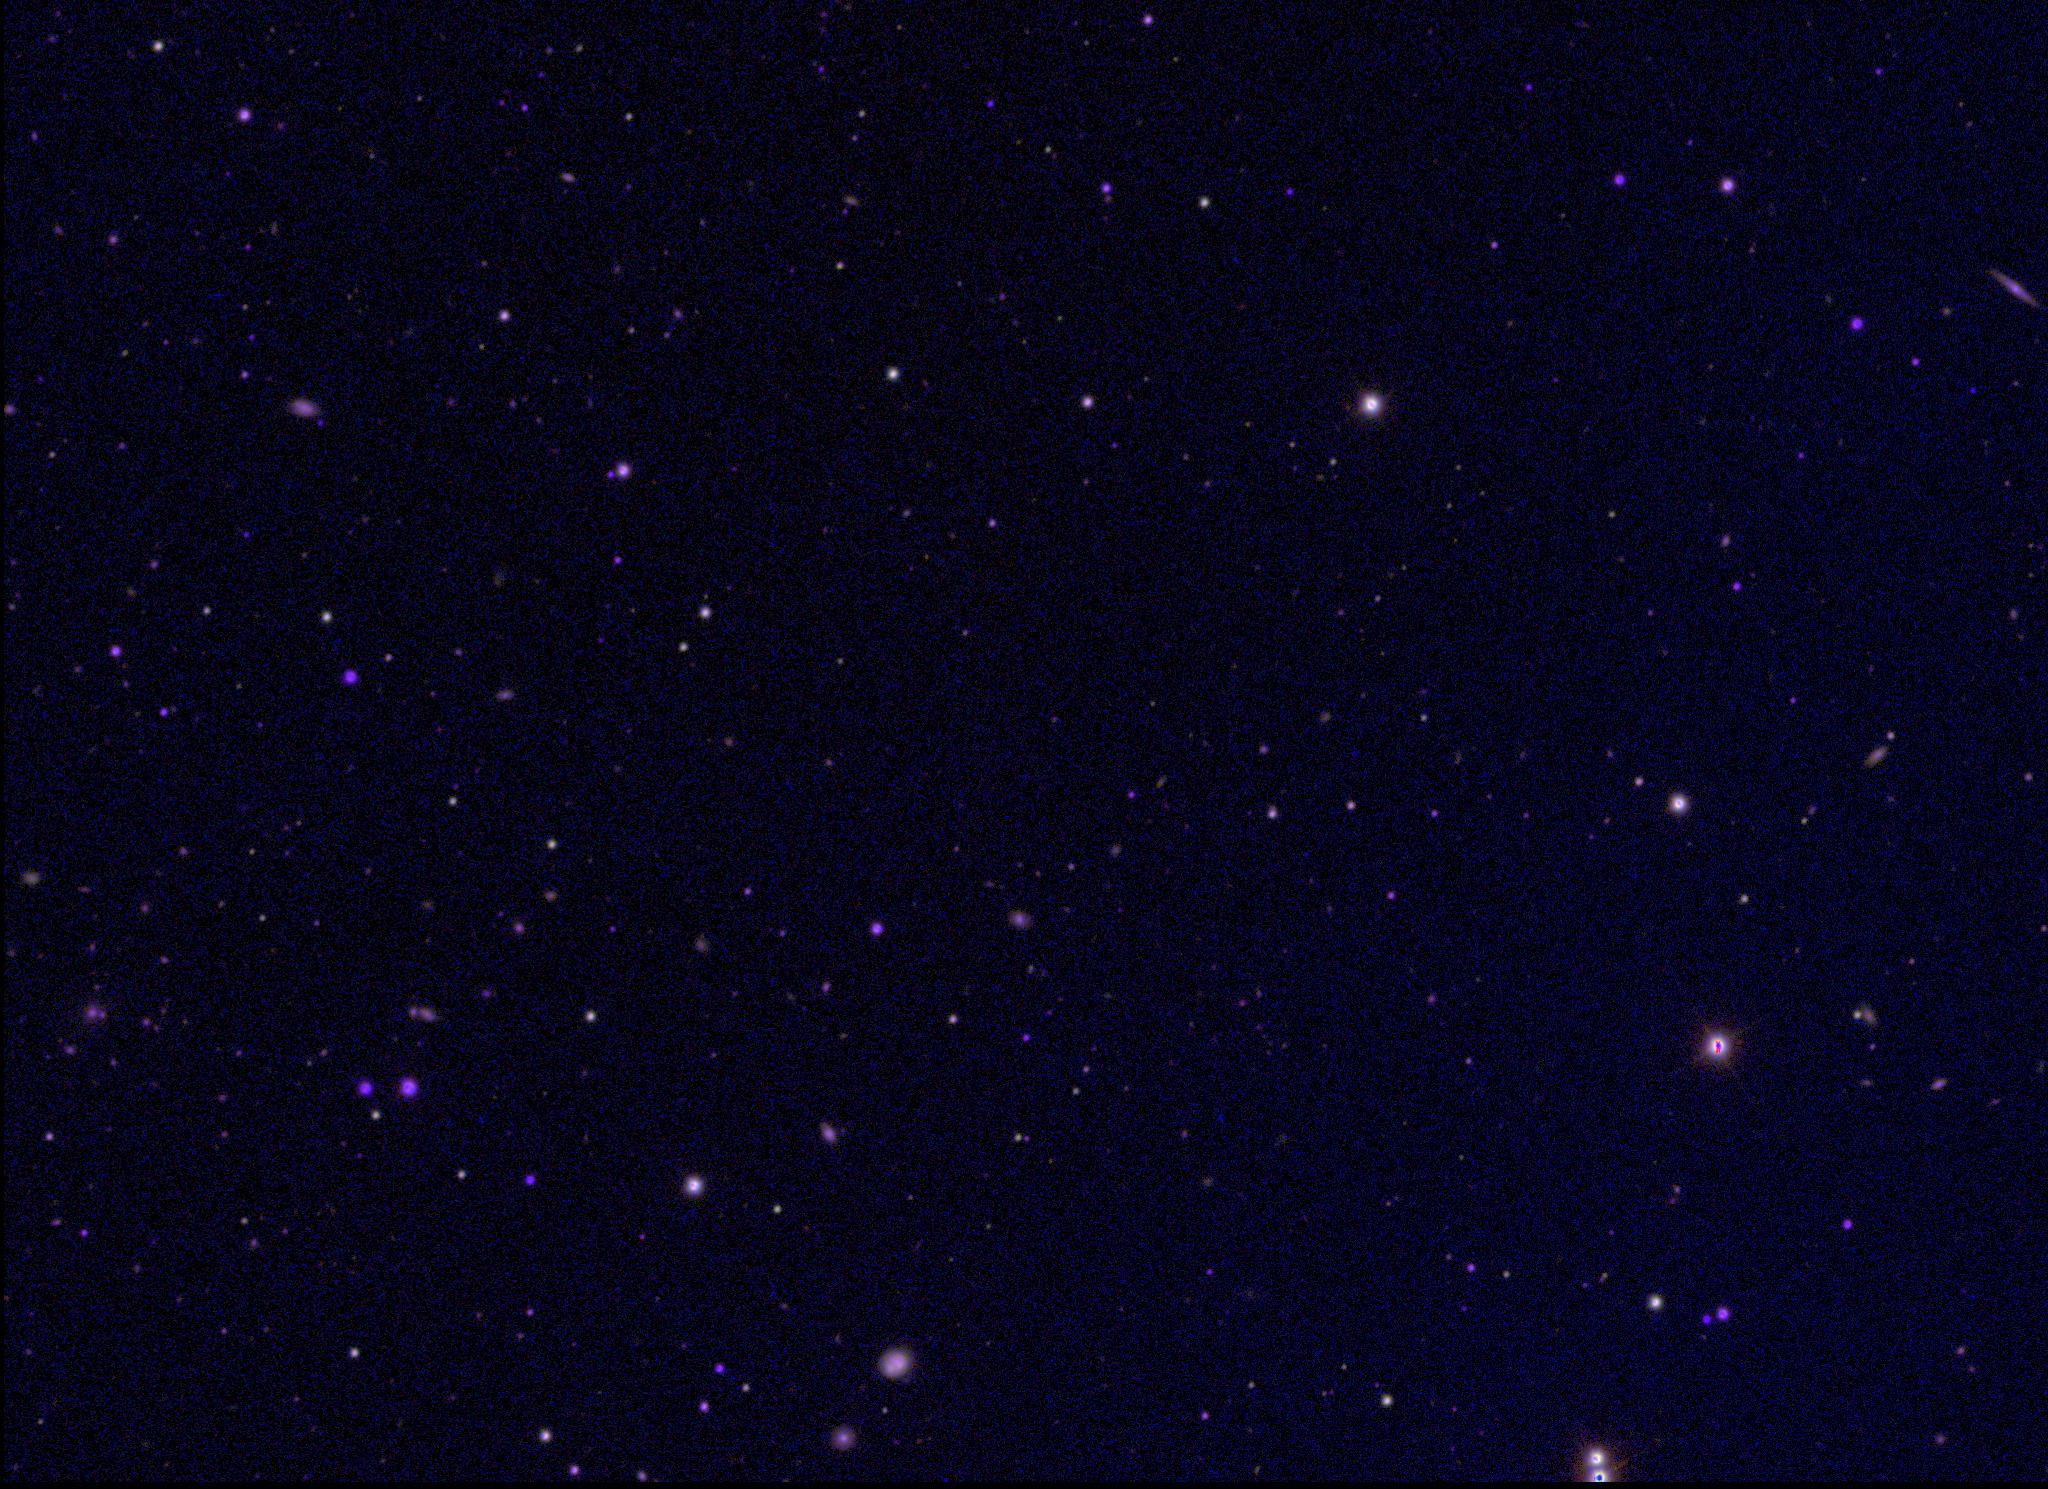L: (1965, 383, 1980, 398)
